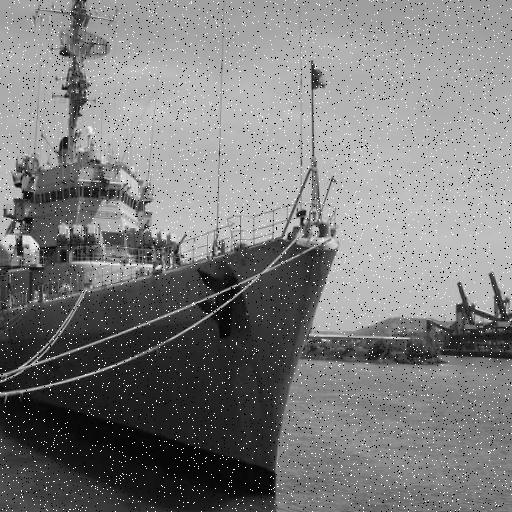Portanaves: (1, 1, 346, 506)
